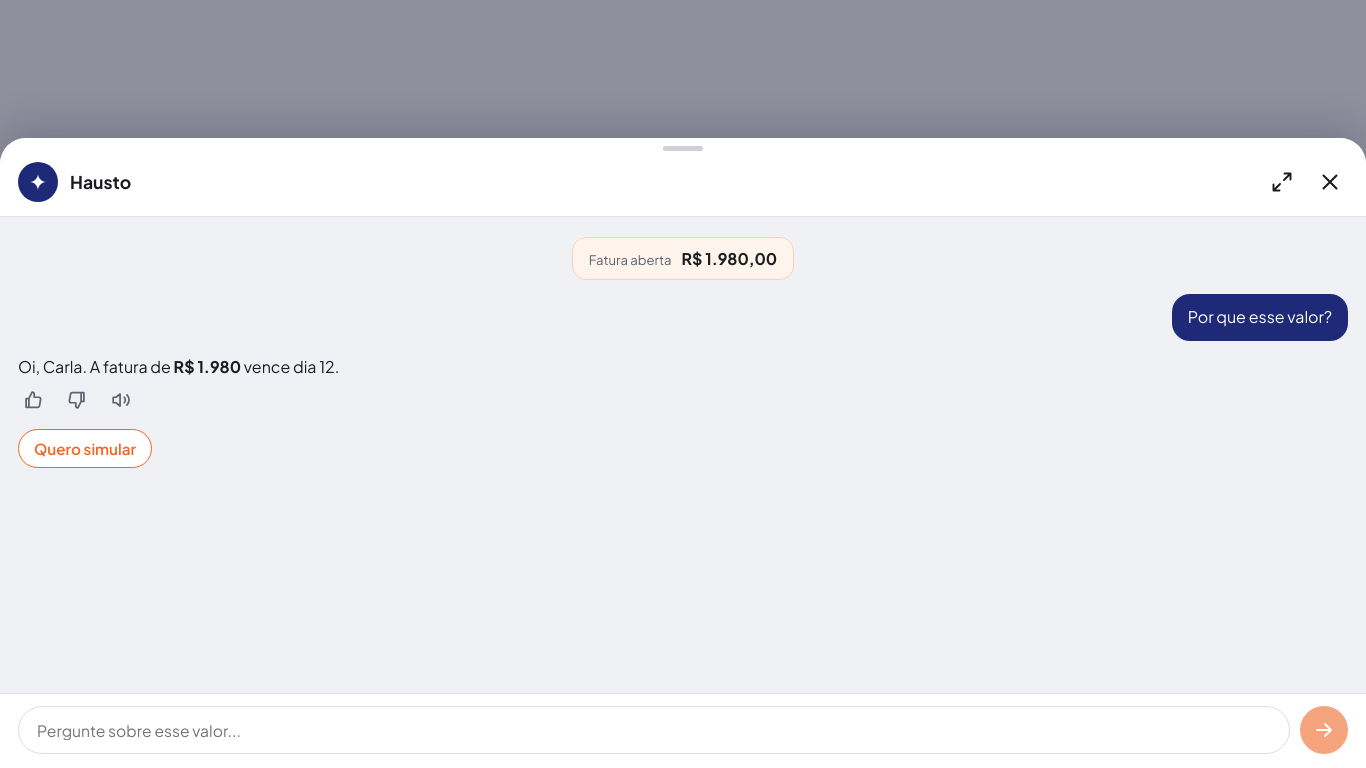
it: <Chat> › mostra um único balão do cliente quando o chip enviado como mensagem volta com pergunta
Click the button "Quero simular" at (85, 449), box top-left (18, 429), bottom-right (152, 468)
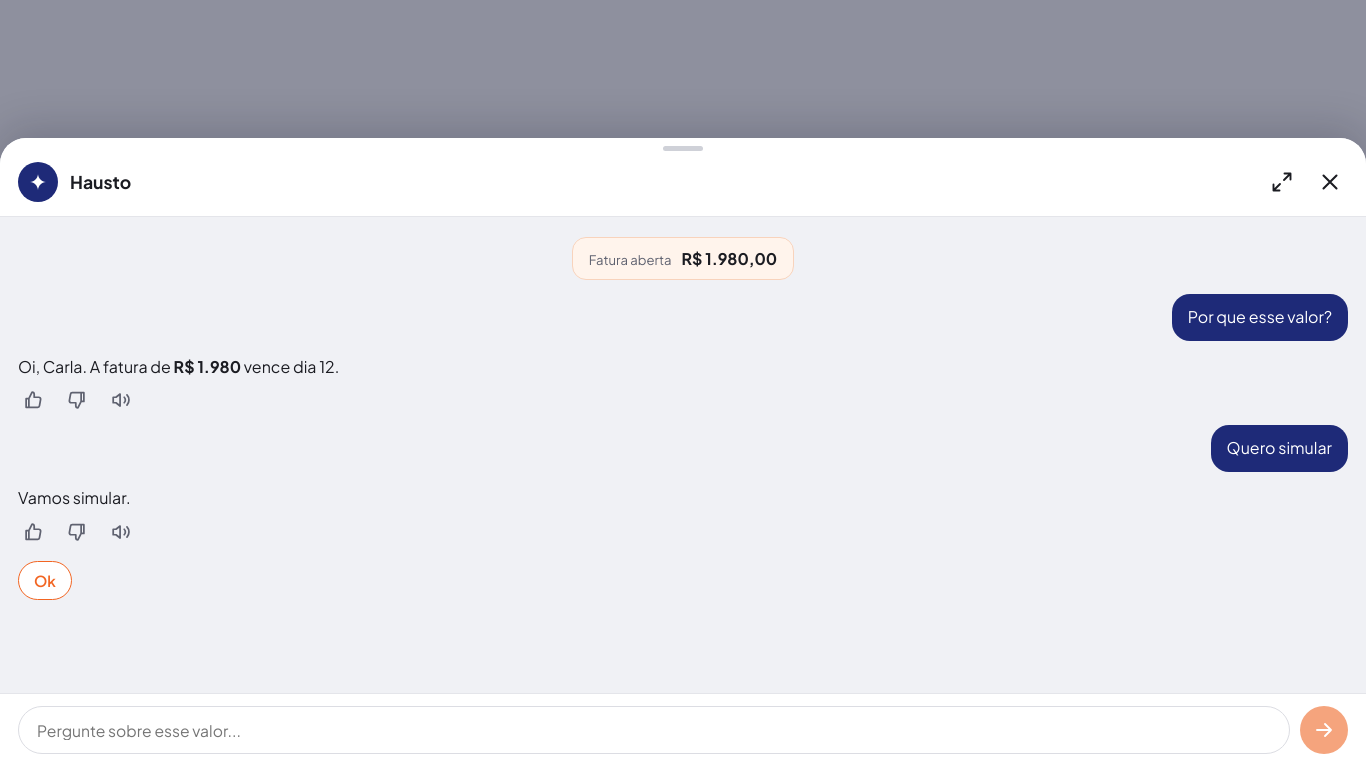
Expected: the text "Quero simular" is shown, top-left (1211, 425), bottom-right (1348, 472)
Result: the button "Ok" is shown at top-left (18, 561), bottom-right (72, 600)
